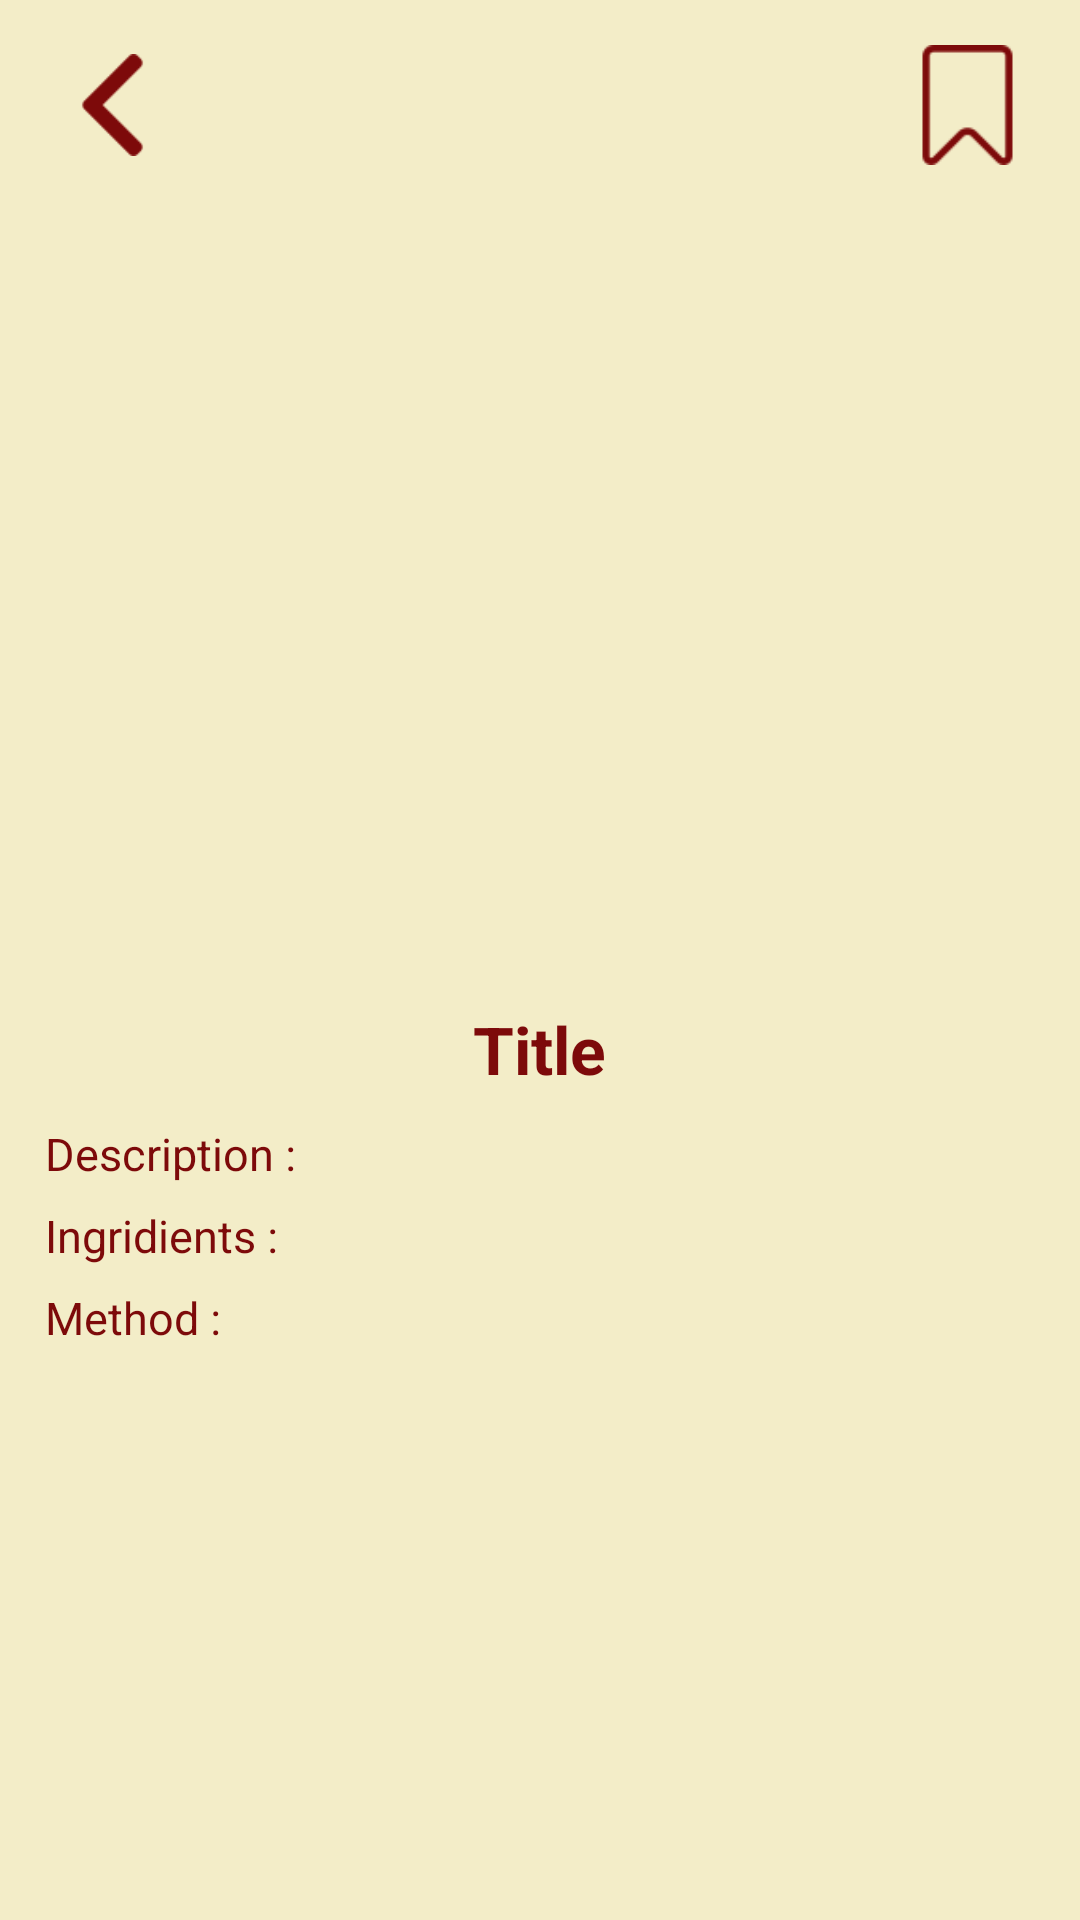

Where icons sit on this 1080w x 1920h app screen, as box(x1, y1, x2, y2):
back: box(82, 54, 143, 156)
